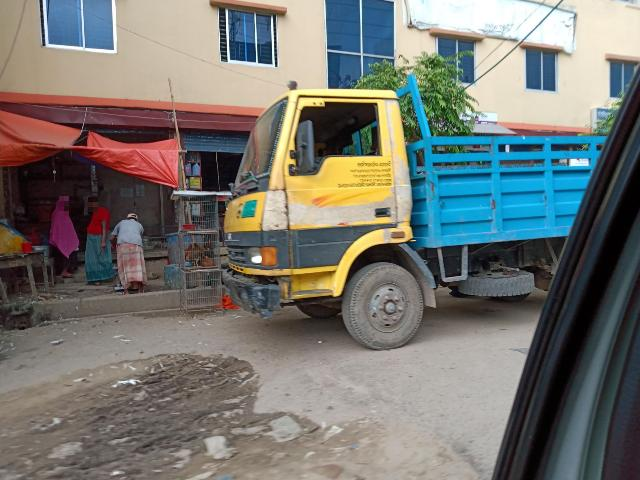truck: (208, 61, 621, 352)
